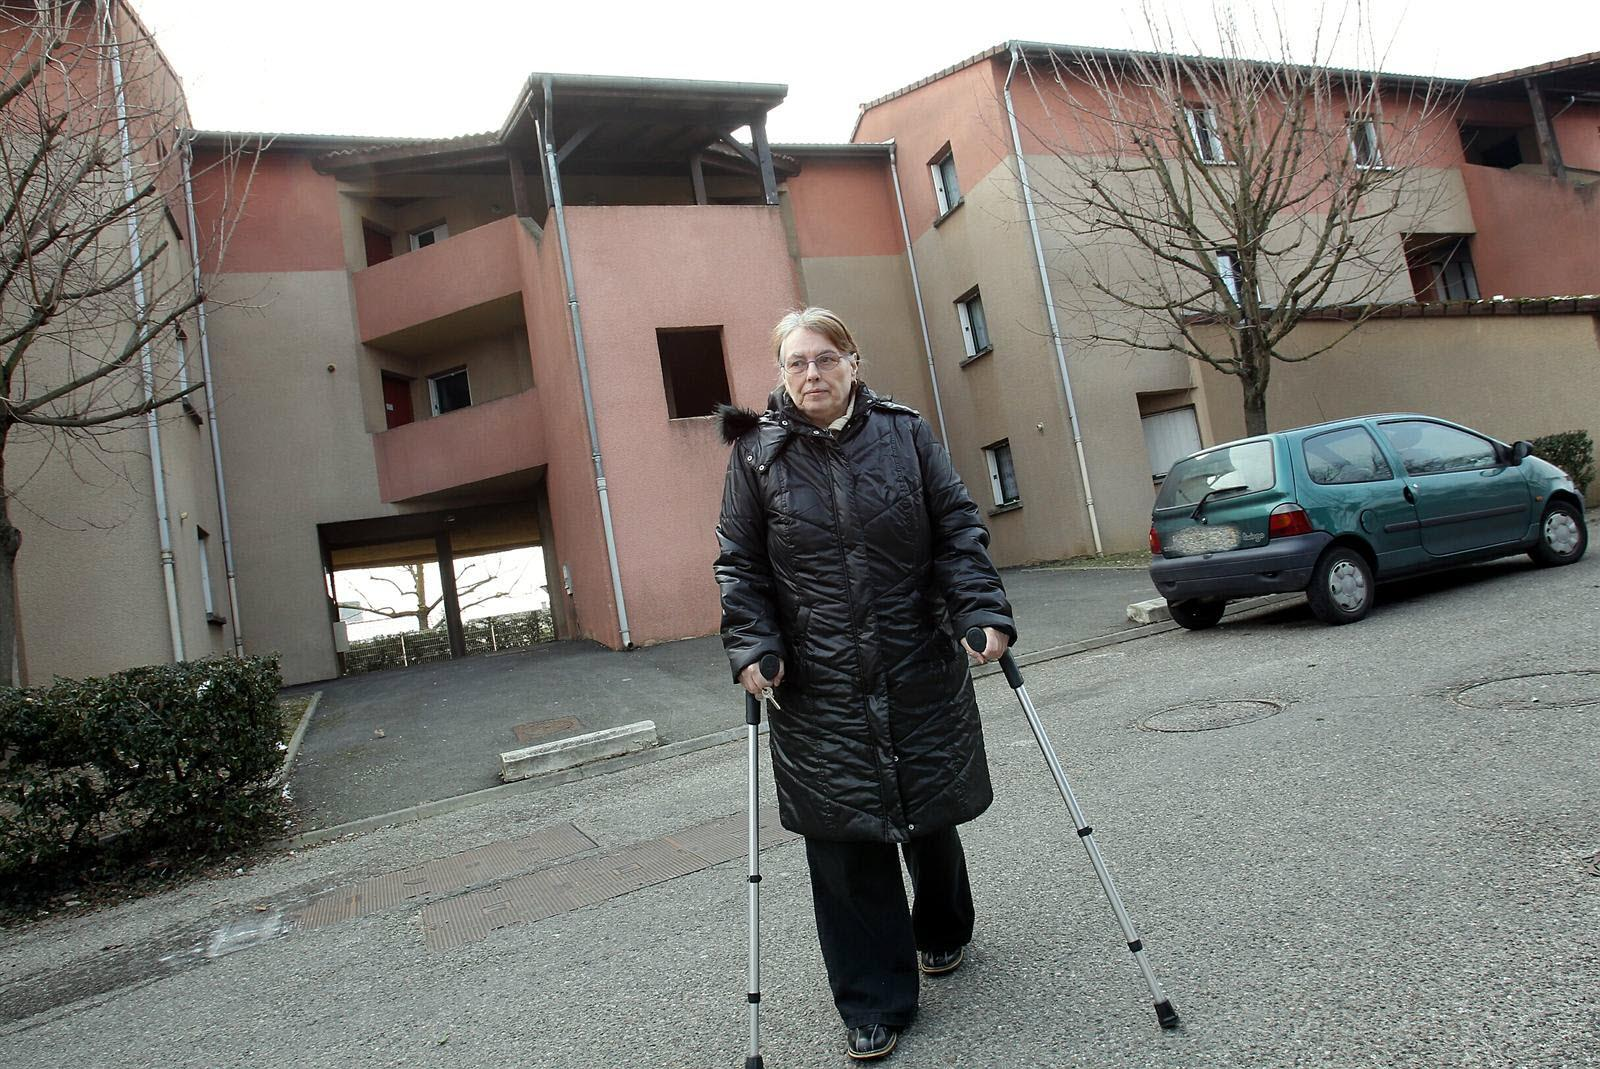crutches: (711, 309, 1180, 1069)
